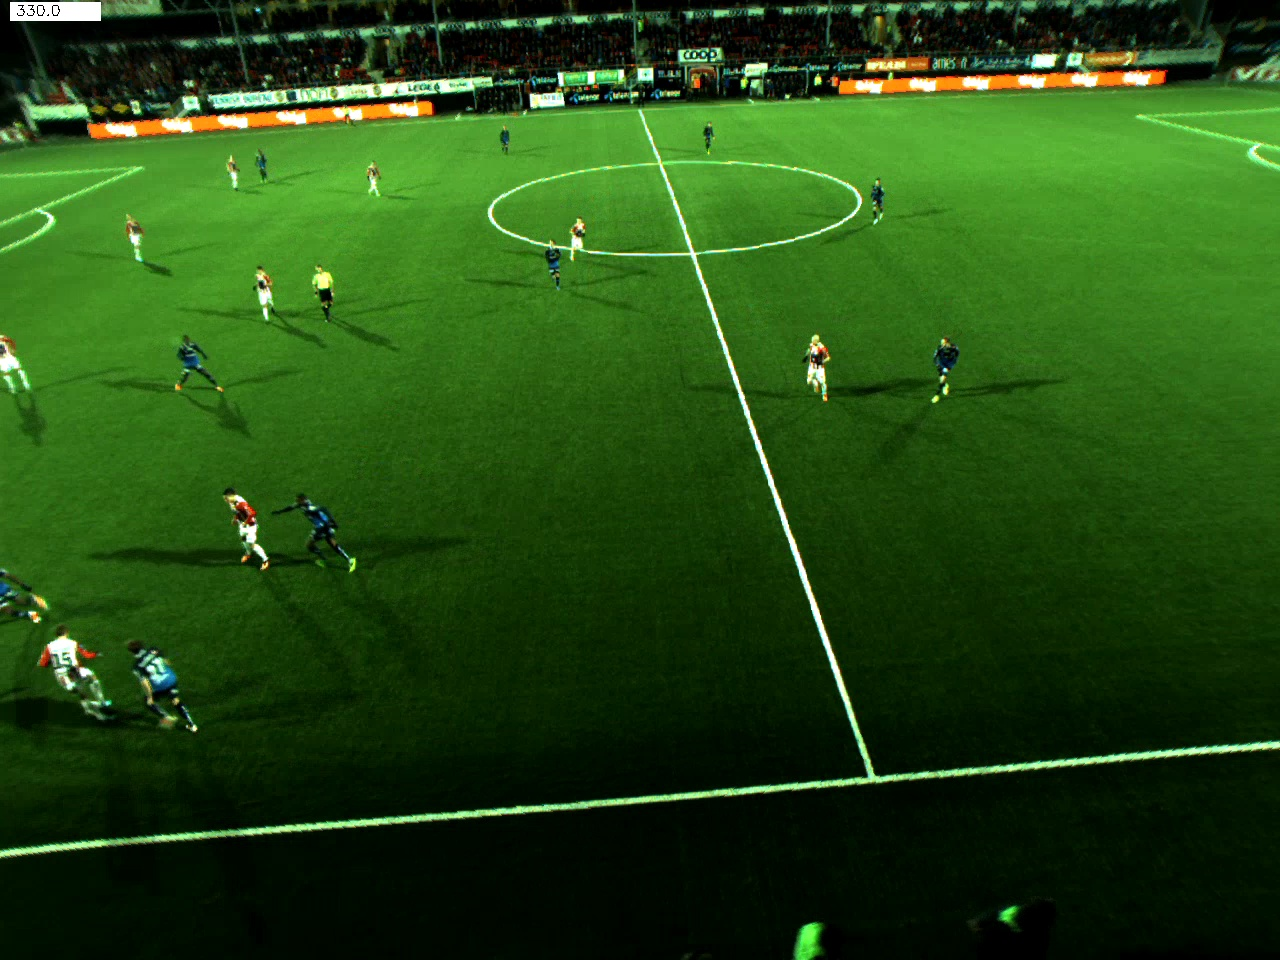blue: (126, 634, 201, 753), (281, 491, 367, 589), (164, 325, 226, 407), (1, 556, 52, 638), (923, 334, 969, 421), (864, 173, 891, 238), (544, 238, 570, 289), (249, 148, 273, 189), (495, 127, 520, 155), (701, 123, 719, 157)
red: (44, 623, 128, 728), (213, 474, 277, 584), (799, 327, 835, 413), (121, 203, 156, 271), (1, 330, 37, 395), (246, 264, 277, 327), (358, 155, 394, 200), (219, 155, 244, 206), (564, 207, 587, 262)
yellow: (306, 264, 339, 332)
